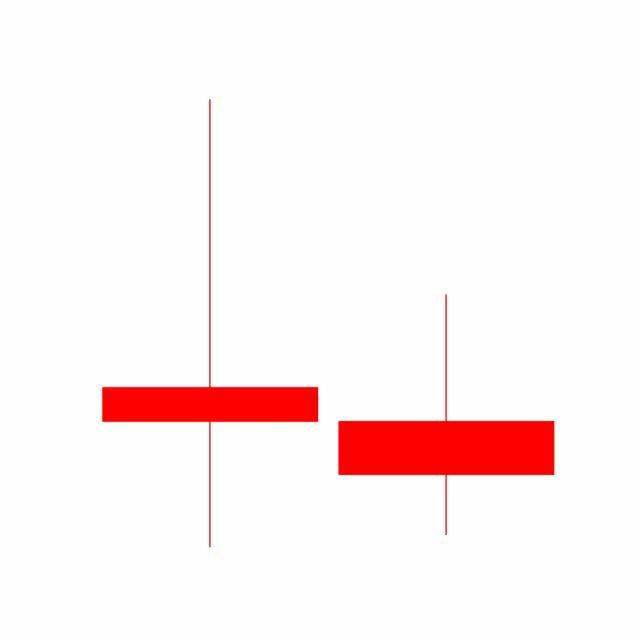Spinning Top: (328, 292, 566, 539)
